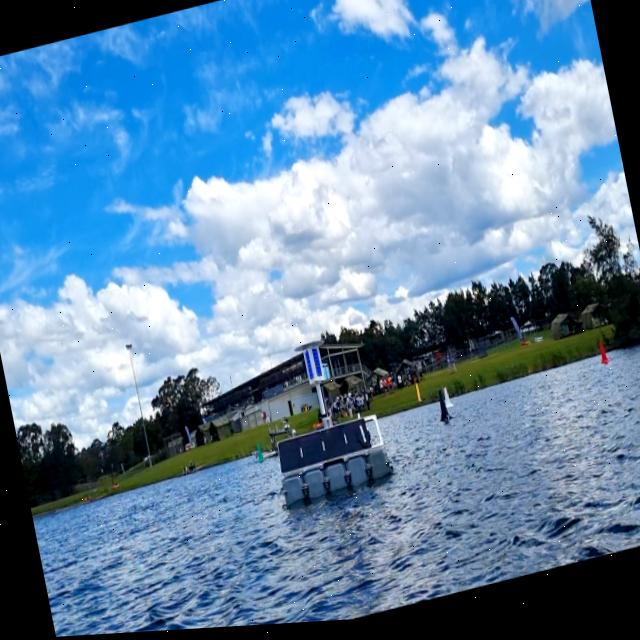led: (304, 350, 324, 386), (310, 350, 324, 384), (304, 353, 316, 385)
